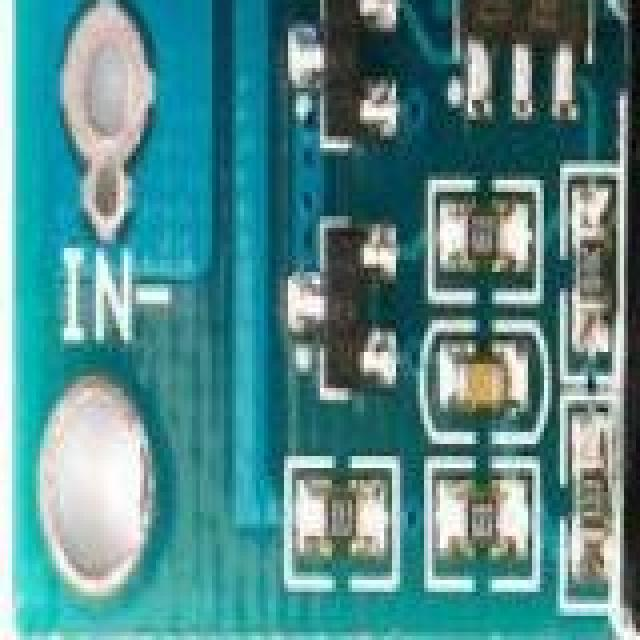IC: (464, 0, 596, 92)
capacitor: (444, 336, 530, 416)
display: (628, 0, 640, 636)
resistor: (304, 464, 384, 568), (568, 404, 610, 590), (444, 484, 530, 566), (444, 196, 530, 268), (568, 220, 606, 330)
transistor: (300, 212, 400, 384), (288, 0, 396, 152)
